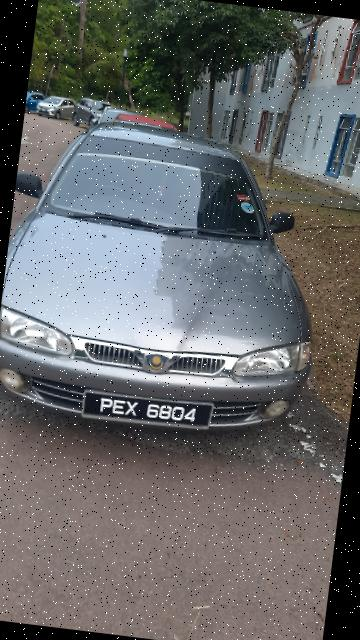License_Plate: (75, 381, 217, 436)
car: (1, 98, 342, 454)
